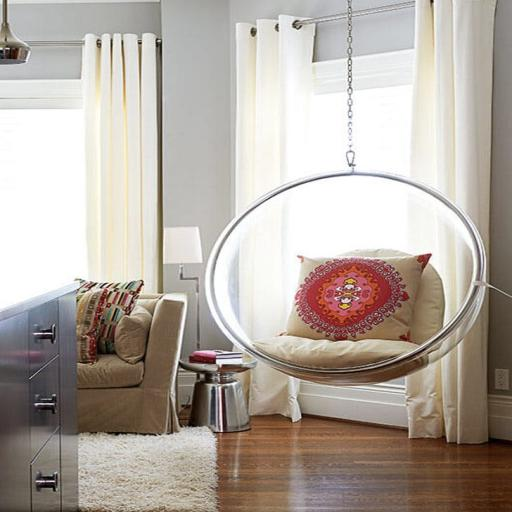sofa: (77, 280, 188, 433)
wall: (227, 0, 511, 440), (0, 0, 161, 292), (161, 0, 231, 407)
